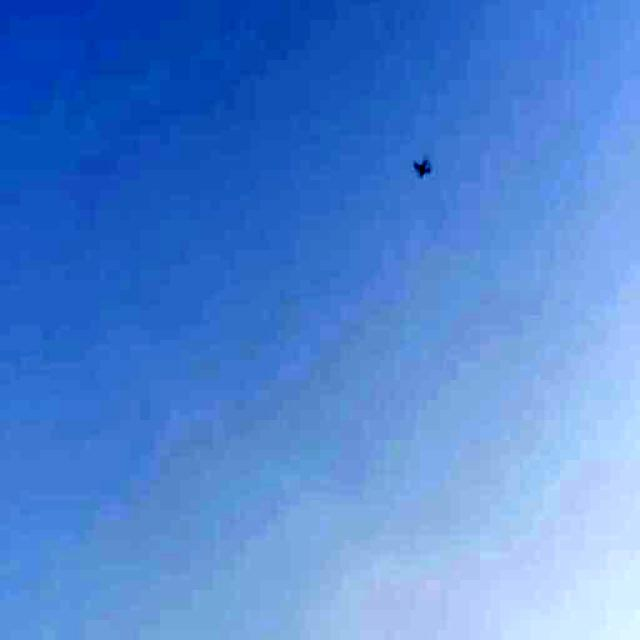bird: (411, 156, 435, 182)
